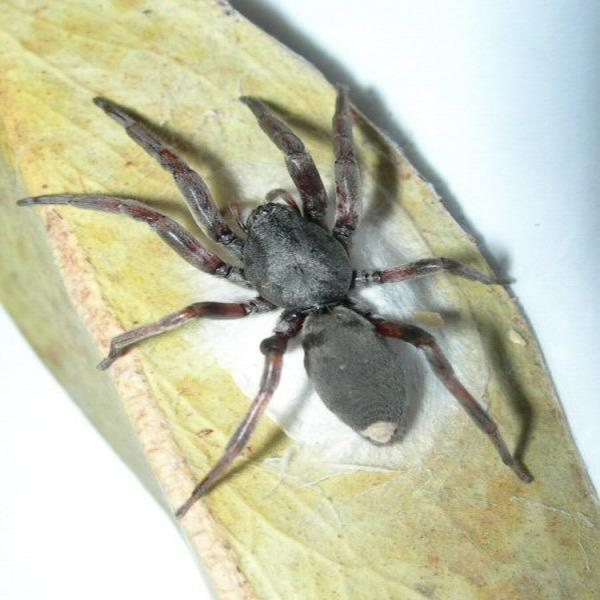White-Tailed Spider: (35, 84, 535, 510)
